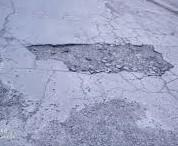alligator-crack: (46, 76, 178, 106)
crack: (0, 0, 20, 43)
pothole: (24, 38, 175, 81)
